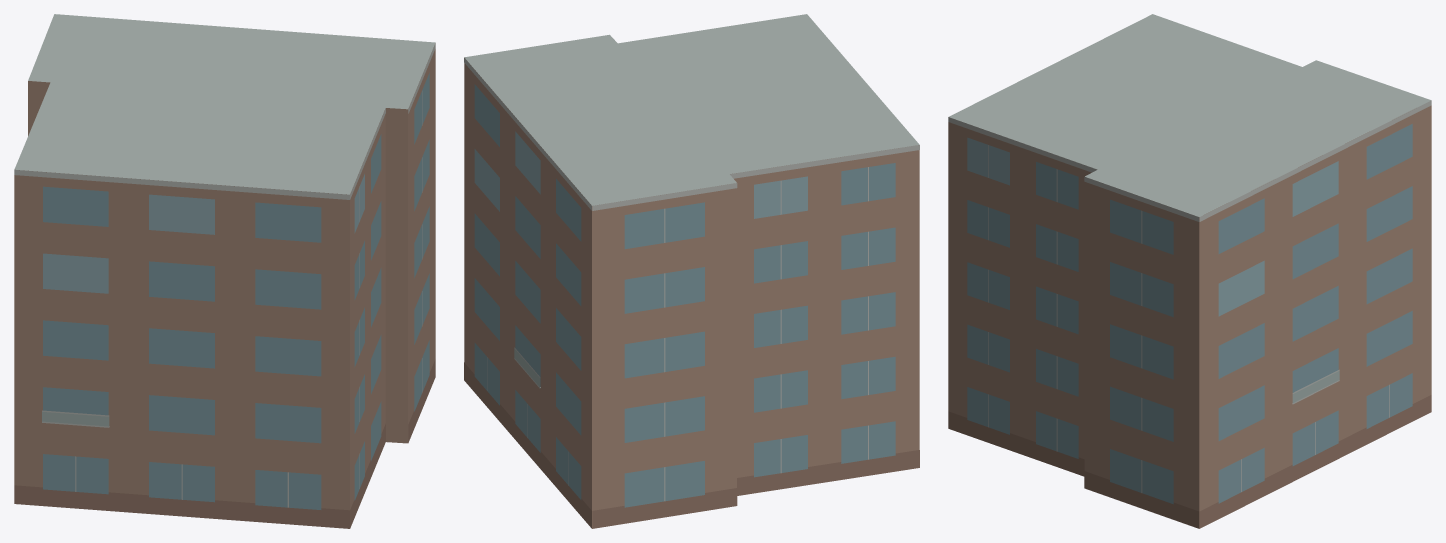
The model's file is survey-upis-32763554.glb.
3 renders of one model, left to right at view 1: azimuth 30°, elevation 25°; view 2: azimuth 150°, elevation 25°; view 3: azimuth 270°, elevation 25°, orthographic. The views are drawn at different scales.
Visible parts, largest first — view 1: survey-upis-32763554.tmp; view 2: survey-upis-32763554.tmp; view 3: survey-upis-32763554.tmp.
Boxes of the visible parts, left/top/right/bottom form: survey-upis-32763554.tmp: left=14, top=14, right=435, bottom=528; survey-upis-32763554.tmp: left=464, top=14, right=919, bottom=528; survey-upis-32763554.tmp: left=948, top=14, right=1431, bottom=528.
Bounding box in the file's own units: 21.26 × 15.2 × 21.36.
